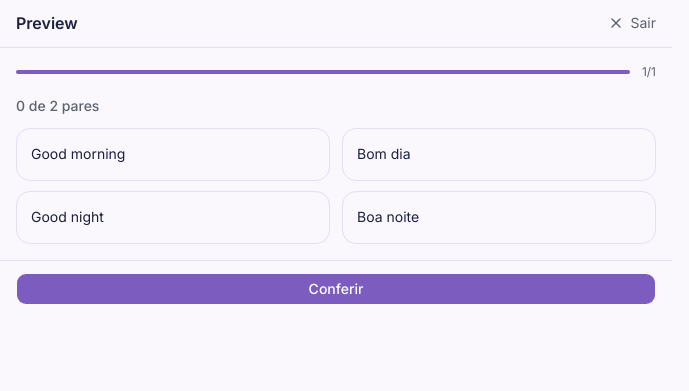
Scenario: ExercisePreview › permanece em answering enquanto MATCH_CLICK estiver incompleto e limpa o aviso ao completar
Click the button with test id "match-entry-left-left-1". click: click(78, 154)
box: 16,128 -> 330,181
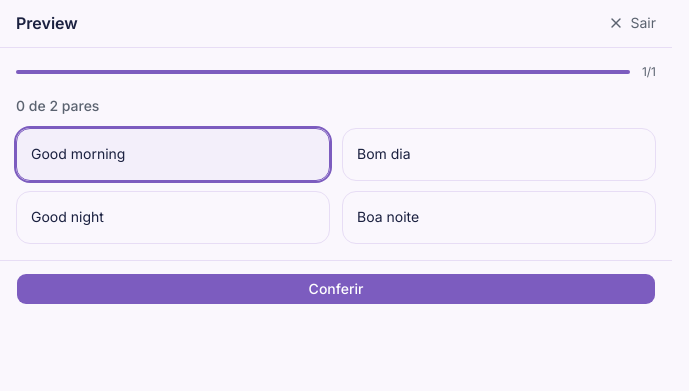
Click the button with test id "match-entry-right-right-1". click: click(384, 154)
box: 342,128 -> 656,181
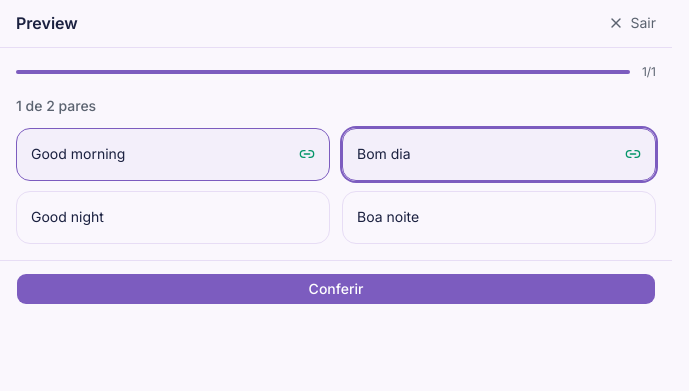
Click the button "Conferir". click: click(336, 288)
box: 16,272 -> 656,304
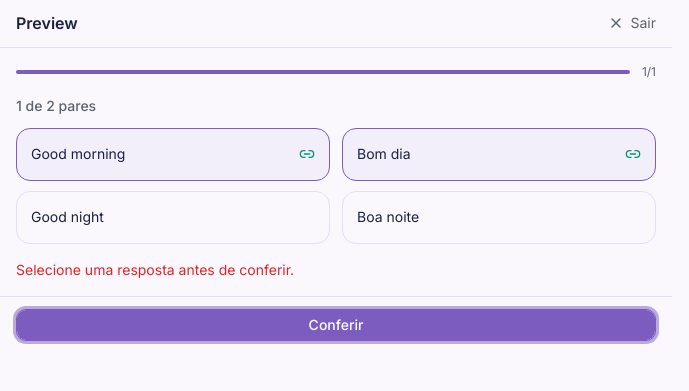
Expected: the message shows "Selecione uma resposta", 16,260 -> 294,278
Click the button with test id "match-entry-left-left-2". click: click(67, 216)
box: 16,191 -> 330,244
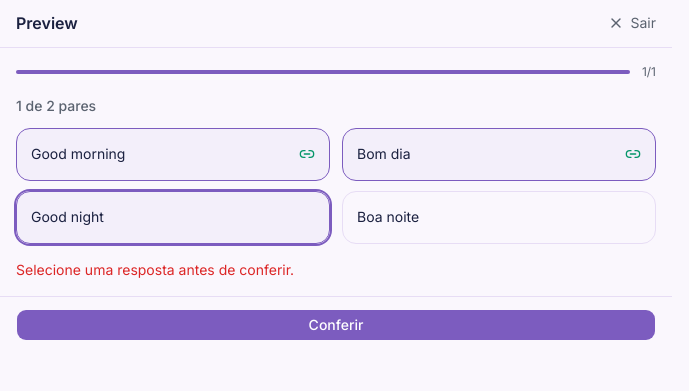
Click the button with test id "match-entry-right-right-2". click: click(388, 216)
box: 342,191 -> 656,244
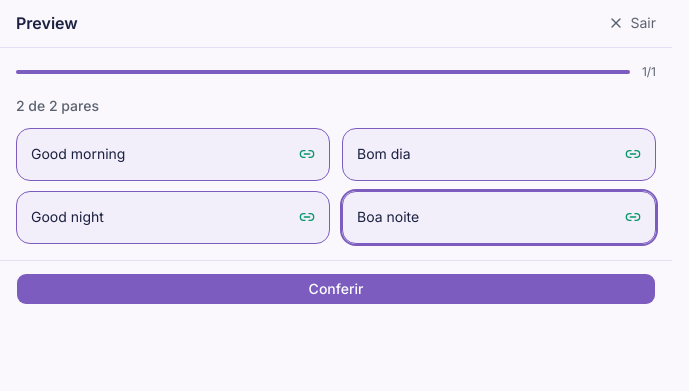
Expected: the message "Selecione uma resposta antes de conferir." is gone
Click the button "Conferir". click: click(336, 288)
box: 16,272 -> 656,304
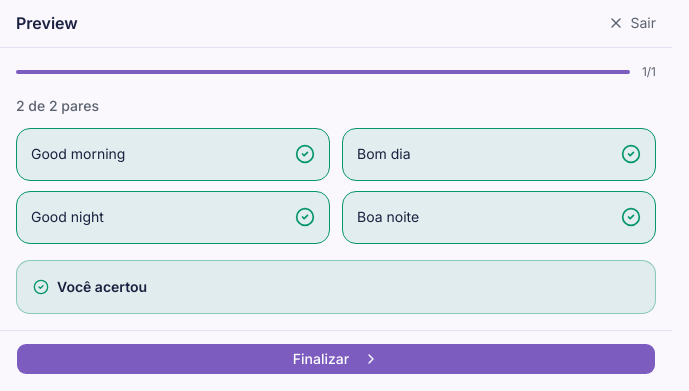
Expected: the number of messages with test id "exercise-result" is 1, 16,260 -> 656,314
Expected: the message with test id "exercise-result" reads "Você acertou", 57,278 -> 147,294
